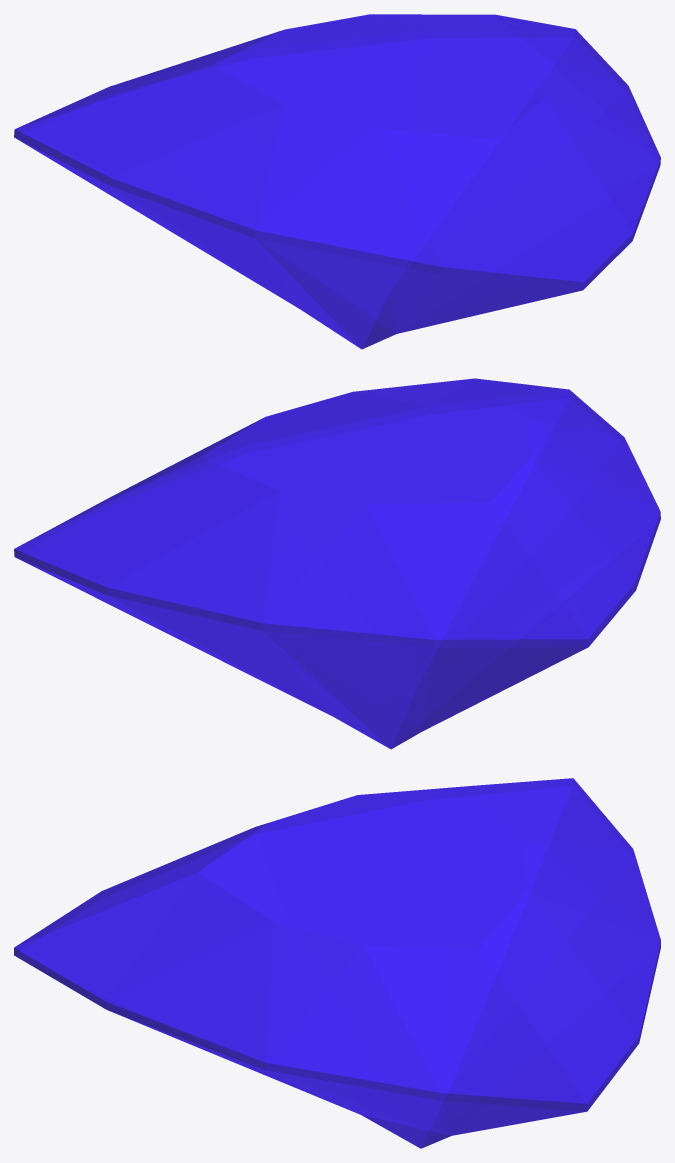
The model's file is september.fbx.
3 views of the same model, one above another, from view 1: azimuth 30°, elevation 25°; view 2: azimuth 150°, elevation 25°; view 3: azimuth 270°, elevation 25° (orthographic).
Parts seen in each view (by area): view 1: sapphire; view 2: sapphire; view 3: sapphire.
Part boxes in pixels (bbox=[...]): sapphire: bbox=[14, 14, 660, 349]; sapphire: bbox=[14, 378, 660, 749]; sapphire: bbox=[14, 778, 660, 1148].
Size of the model in its own units: 1226 by 611 by 1189.
Materials: 1 (1 with a texture image).
